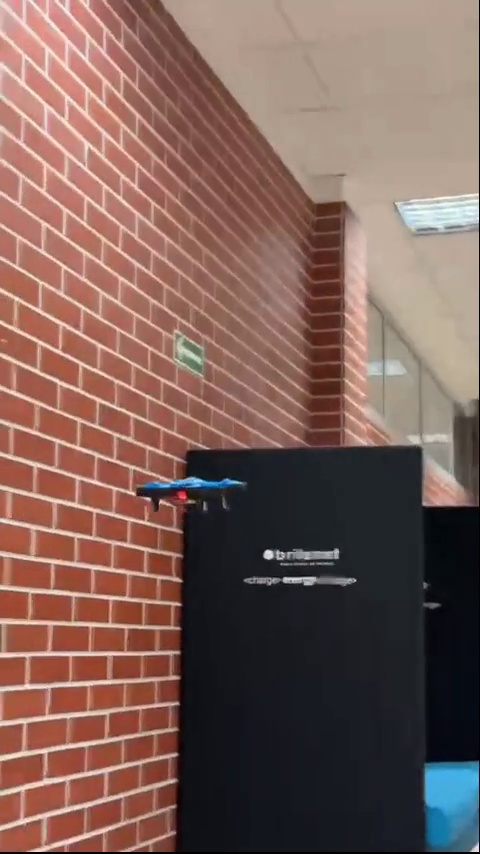drone: (141, 476, 245, 522)
